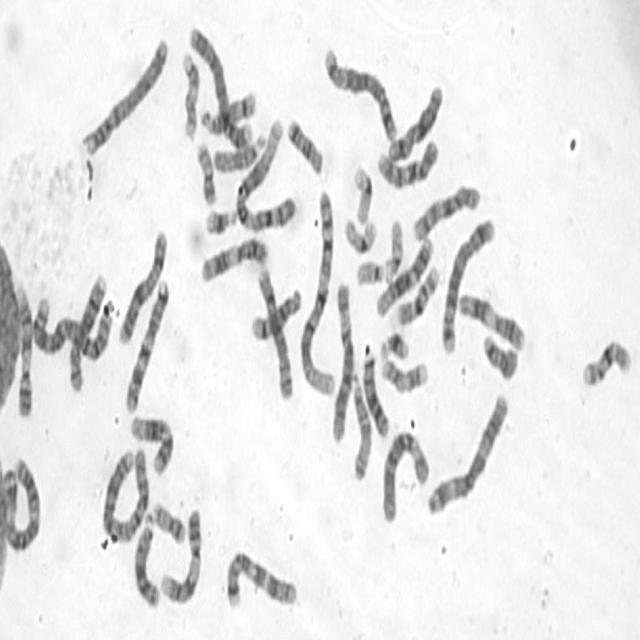A1: (297, 184, 336, 400), (232, 114, 297, 234)
A2: (28, 288, 116, 362), (98, 439, 152, 546)
A3: (423, 385, 511, 517), (0, 450, 43, 552)
B4: (79, 30, 171, 159), (186, 18, 254, 152)
B5: (438, 212, 498, 358), (321, 40, 399, 144)
C10: (409, 179, 482, 245), (375, 132, 440, 190)
C11: (454, 285, 528, 354), (198, 231, 270, 284)
C12: (371, 229, 435, 320), (127, 407, 175, 475)
C6: (379, 425, 431, 527), (328, 274, 356, 444)
C7: (122, 276, 170, 415), (222, 544, 300, 611)
C8: (254, 256, 296, 404), (64, 264, 109, 395)
C9: (157, 500, 204, 606), (12, 276, 35, 420)
D13: (359, 339, 390, 439), (131, 508, 161, 610)
D14: (247, 282, 303, 342), (200, 84, 258, 135)
D15: (211, 125, 269, 176), (350, 369, 373, 481)
E16: (579, 330, 635, 390), (394, 258, 442, 328)
E17: (378, 352, 430, 396), (179, 44, 201, 142)
E18: (284, 110, 324, 176), (480, 326, 520, 382)
F19: (350, 158, 375, 228), (341, 210, 379, 256)
F20: (149, 495, 186, 546), (193, 135, 218, 206)
G21: (202, 202, 238, 236), (377, 326, 410, 362)
G22: (382, 210, 405, 284), (354, 254, 386, 288)
X: (116, 222, 170, 346), (384, 76, 446, 165)
